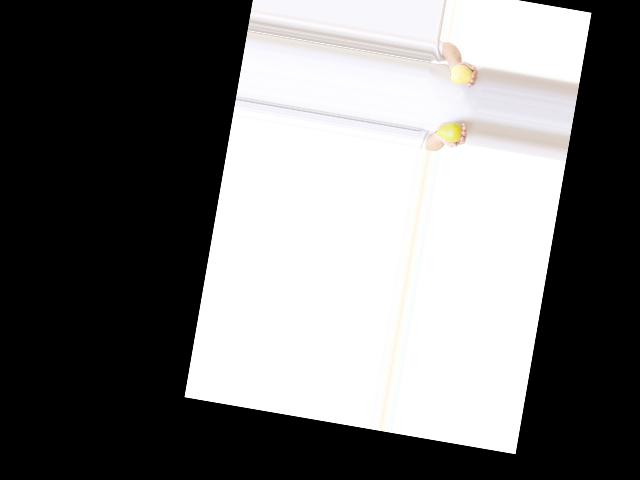apple: (448, 61, 475, 87)
